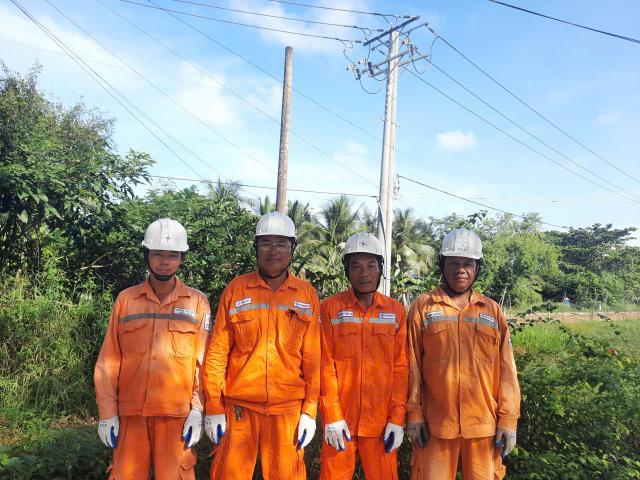gloves: (278, 405, 318, 449), (82, 414, 122, 451), (375, 413, 407, 456), (180, 401, 208, 447), (199, 408, 231, 444), (319, 418, 351, 453), (494, 420, 521, 459), (399, 420, 433, 449)
helmet: (431, 221, 488, 271), (145, 213, 195, 258), (328, 229, 389, 260), (253, 197, 294, 243)
